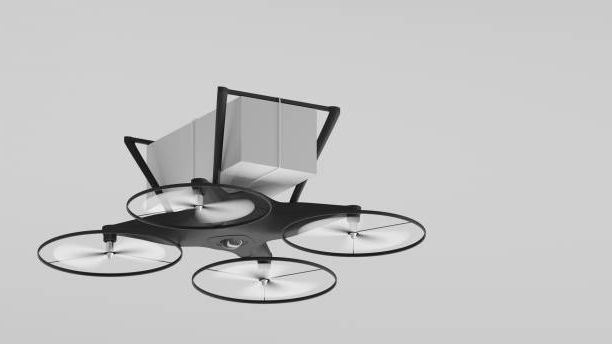Drone: (33, 174, 428, 306)
